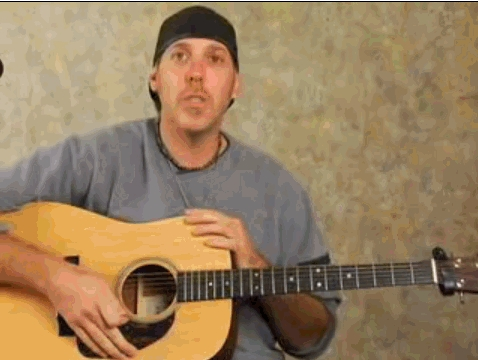guitar: (1, 198, 478, 360)
